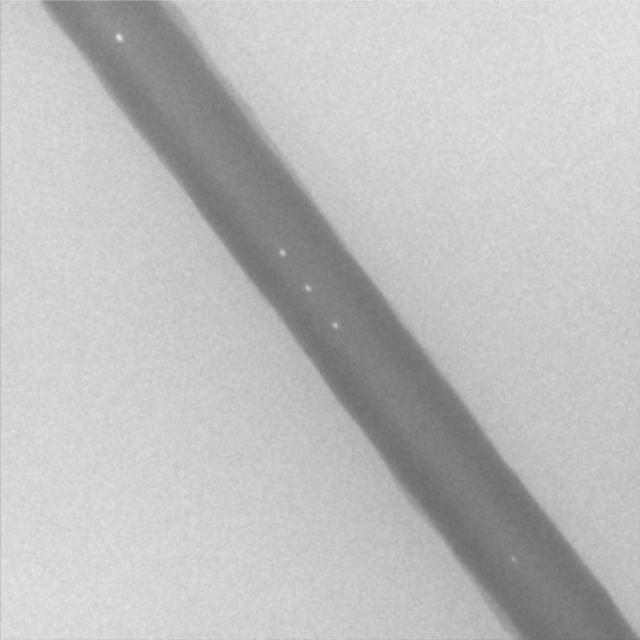air hole: (113, 30, 124, 43), (277, 247, 288, 259), (507, 553, 518, 564), (302, 281, 312, 293), (329, 318, 339, 330)
